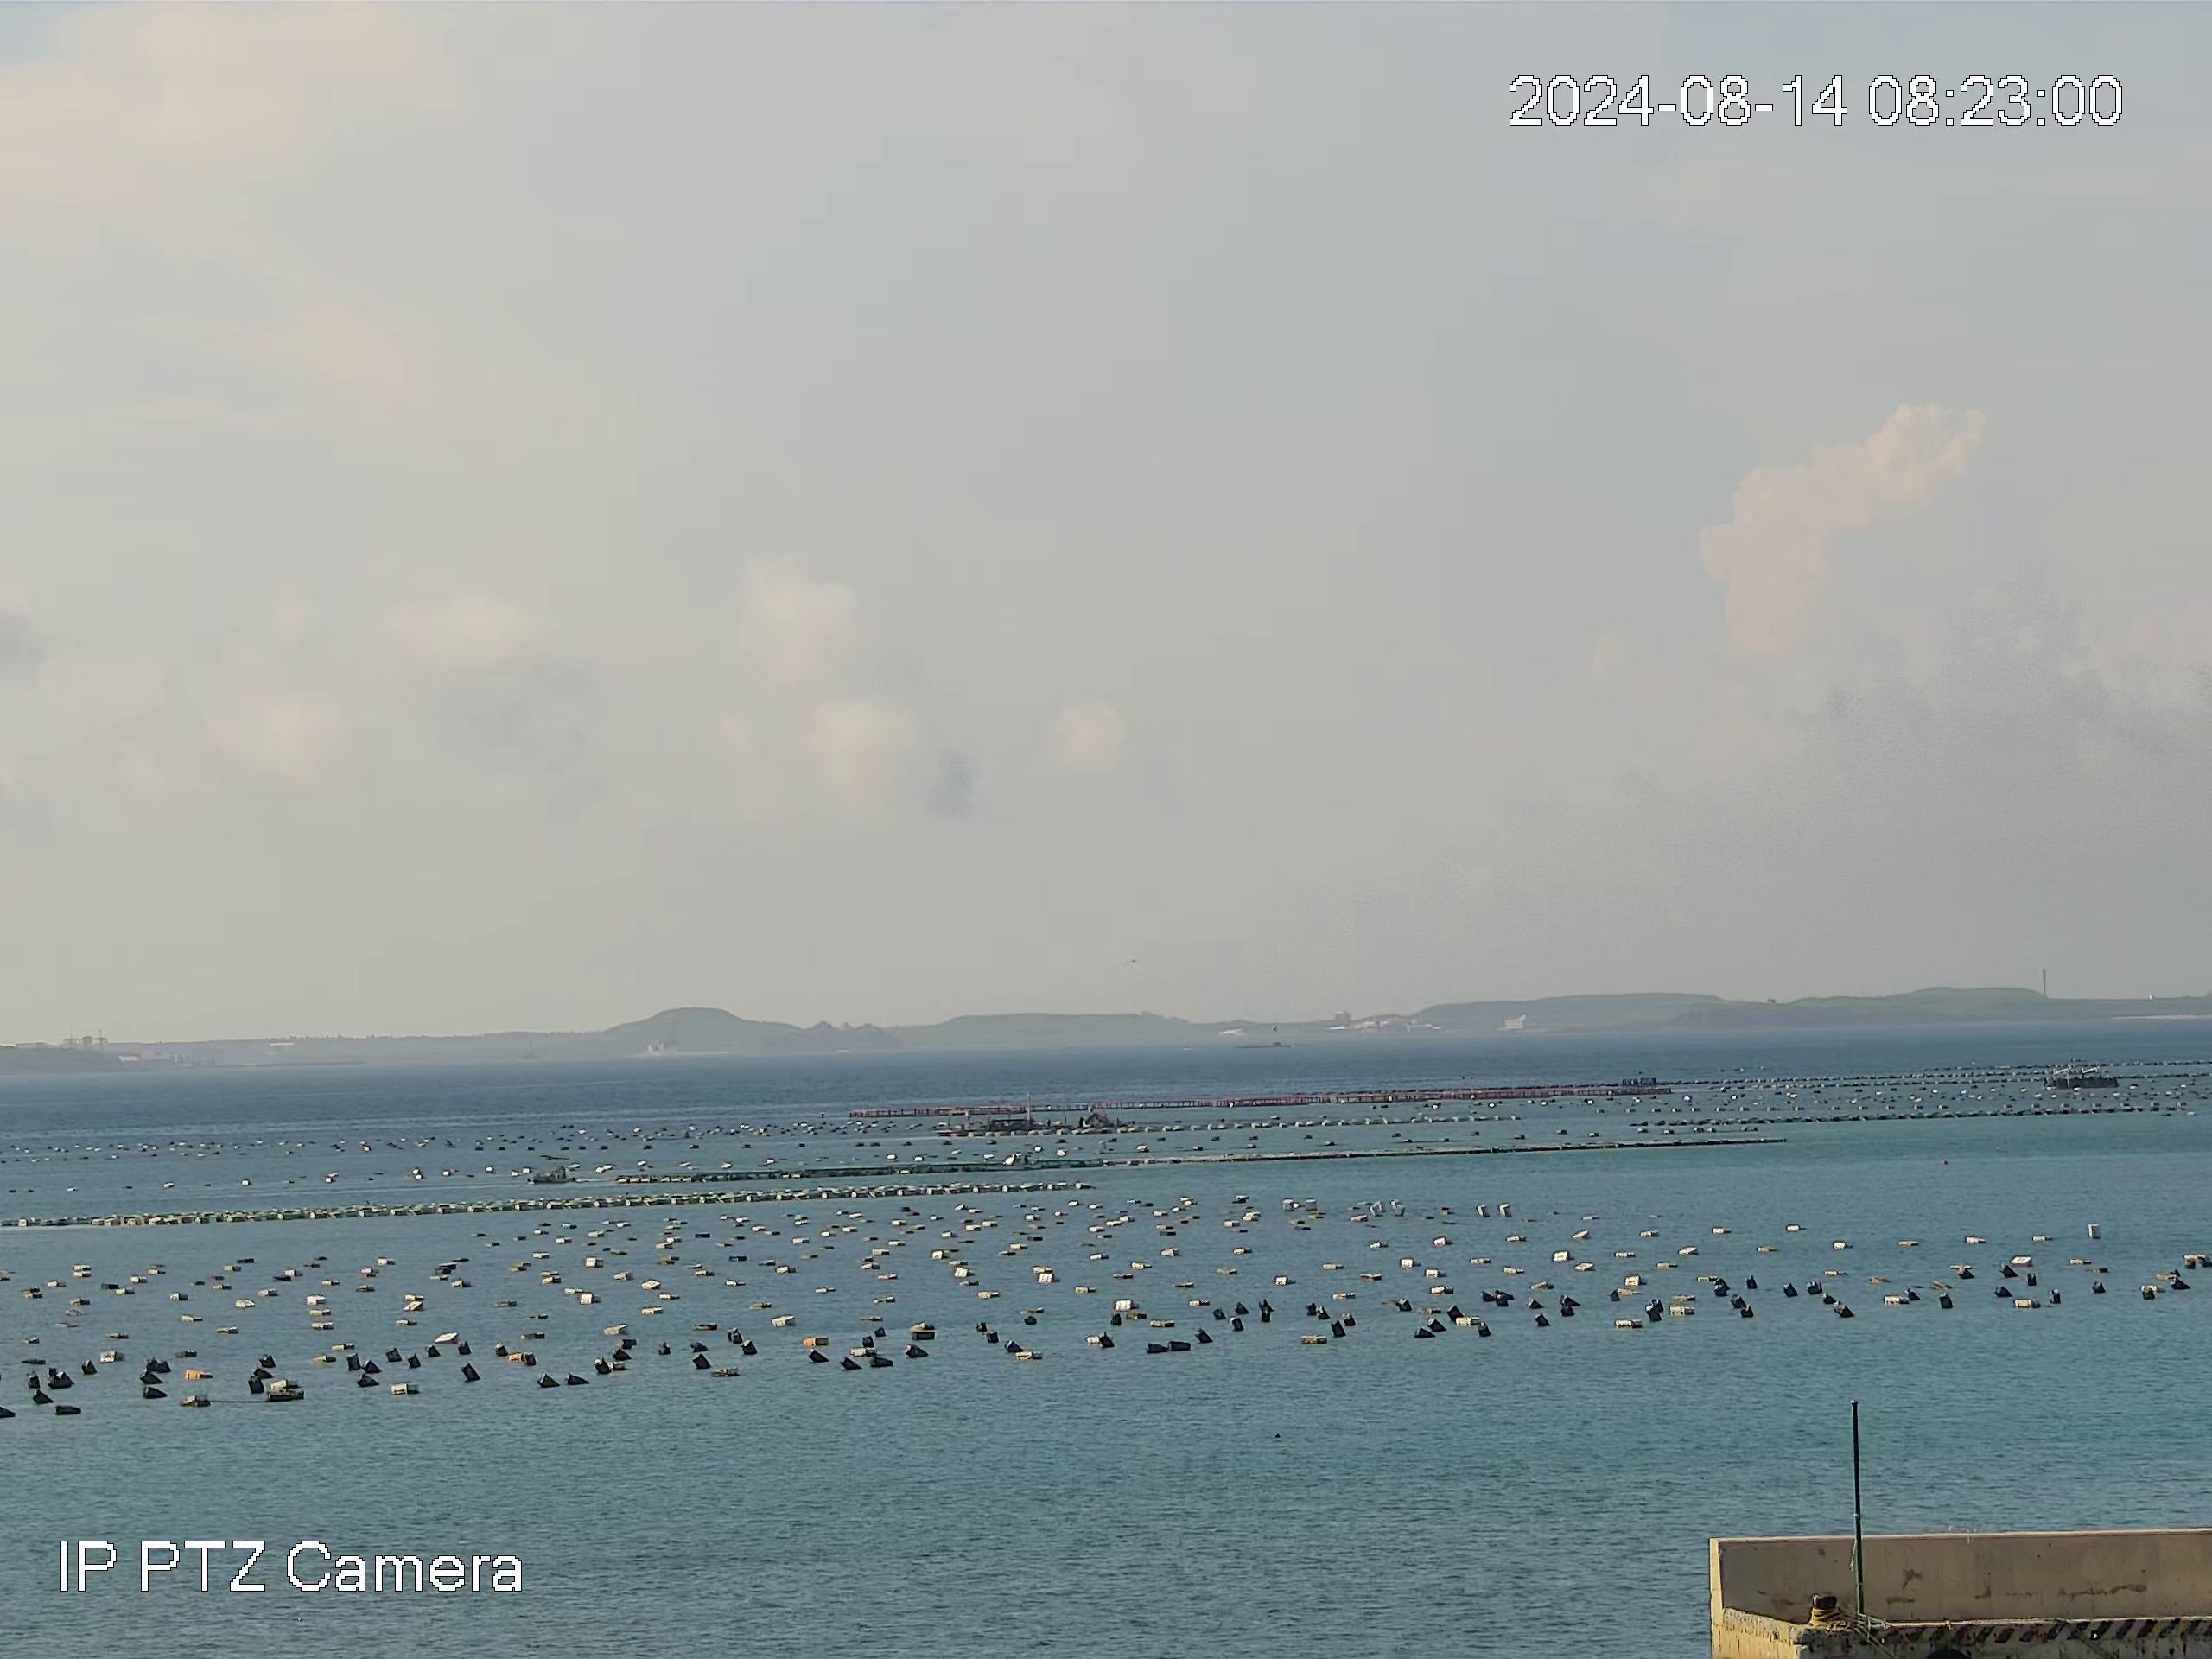boat: (2040, 1065, 2123, 1093)
